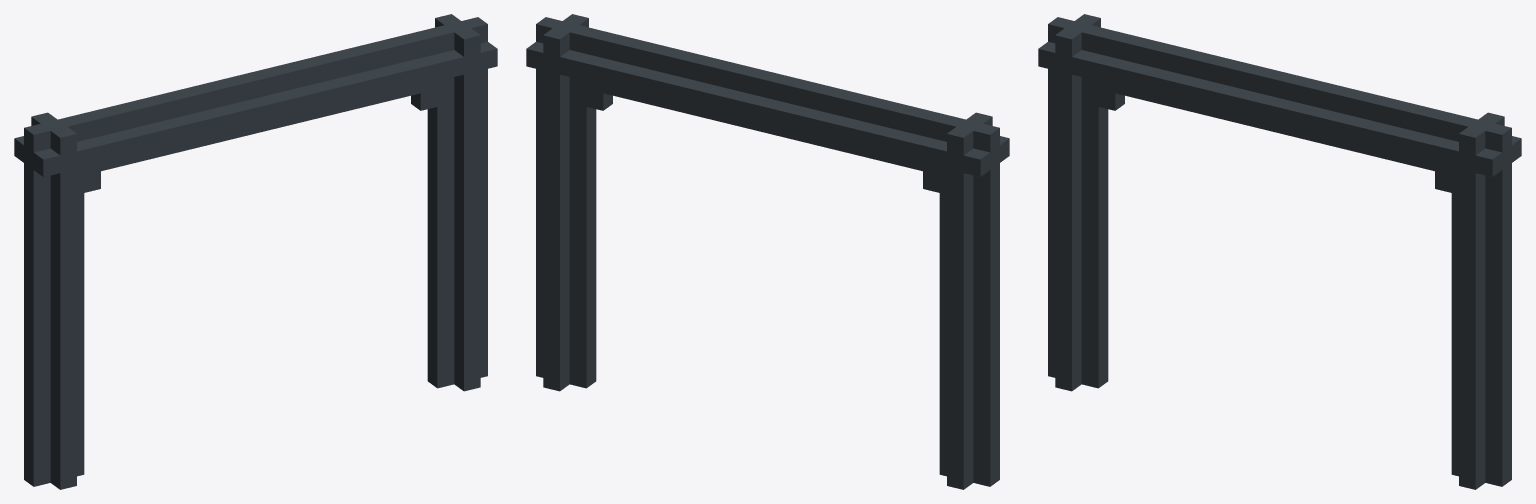
Rendered from bramka_boio.dae.
3 renders of one model, left to right at view 1: azimuth 30°, elevation 25°; view 2: azimuth 150°, elevation 25°; view 3: azimuth 330°, elevation 25°, orthographic.
Parts seen in each view (by area): view 1: Content; view 2: Content; view 3: Content.
Part boxes in pixels (box(x1,y1,x2,y2)): Content: box(14, 14, 497, 489); Content: box(526, 14, 1009, 489); Content: box(1038, 14, 1521, 489).
Size of the model in its own units: 27 by 20 by 3.
Materials: 1 (1 with a texture image).
